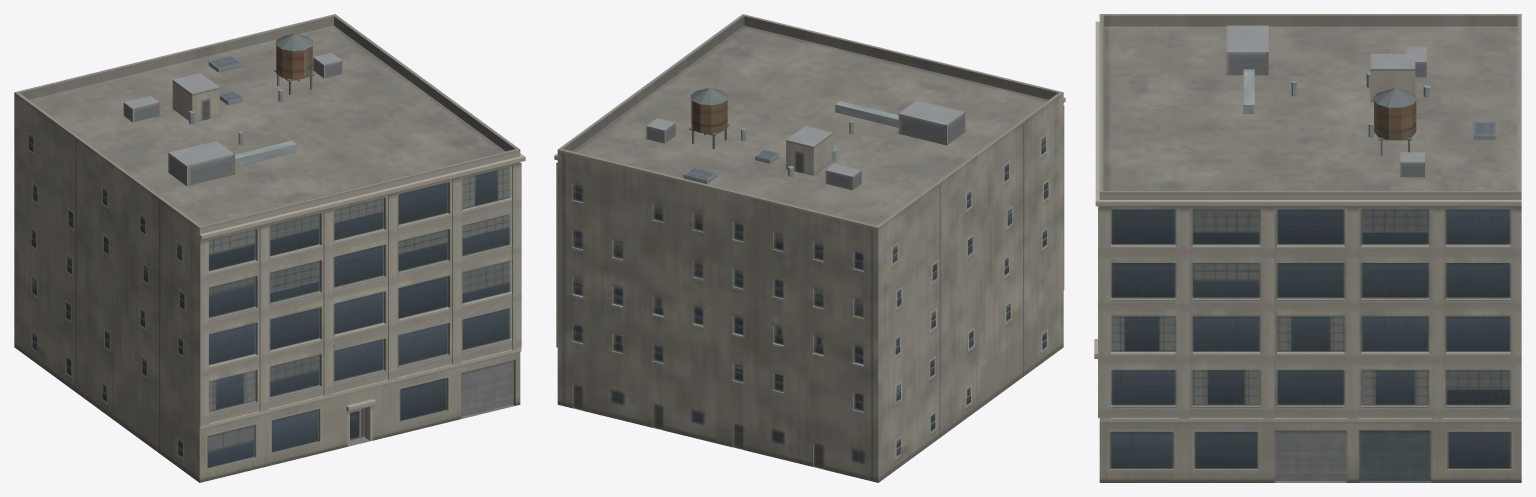
The model's file is sf_warehouse_b.glb.
3 views of the same model, side by side, from view 1: azimuth 30°, elevation 25°; view 2: azimuth 150°, elevation 25°; view 3: azimuth 270°, elevation 25° (orthographic). The views are drawn at different scales.
Parts seen in each view (by area): view 1: sf_warehouse_b; view 2: sf_warehouse_b; view 3: sf_warehouse_b.
Boxes of the visible parts, <box> form: sf_warehouse_b: <box>14,14,525,482</box>; sf_warehouse_b: <box>554,14,1065,482</box>; sf_warehouse_b: <box>1094,14,1521,482</box>.
Size of the model in its own units: 30.3 by 26.77 by 30.4.
1 material, 1 textured.
